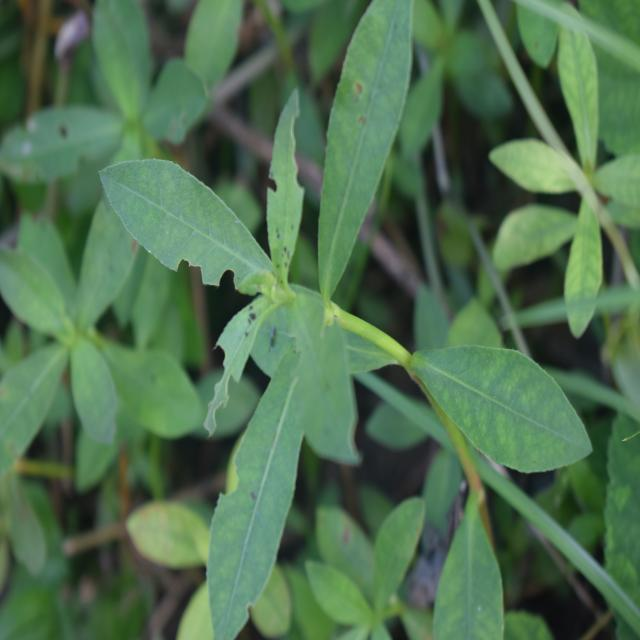Alligatorweed: (119, 30, 506, 606)
